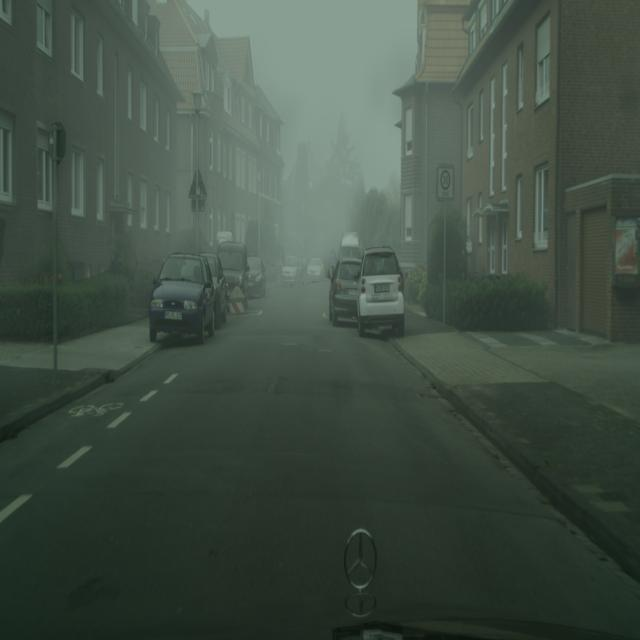person: (329, 249, 336, 281)
train: (338, 231, 362, 262)
truck: (149, 252, 217, 345), (357, 246, 405, 339), (328, 258, 362, 327), (217, 241, 248, 313), (201, 252, 228, 327), (245, 255, 267, 298), (282, 255, 306, 286), (307, 258, 325, 282)
